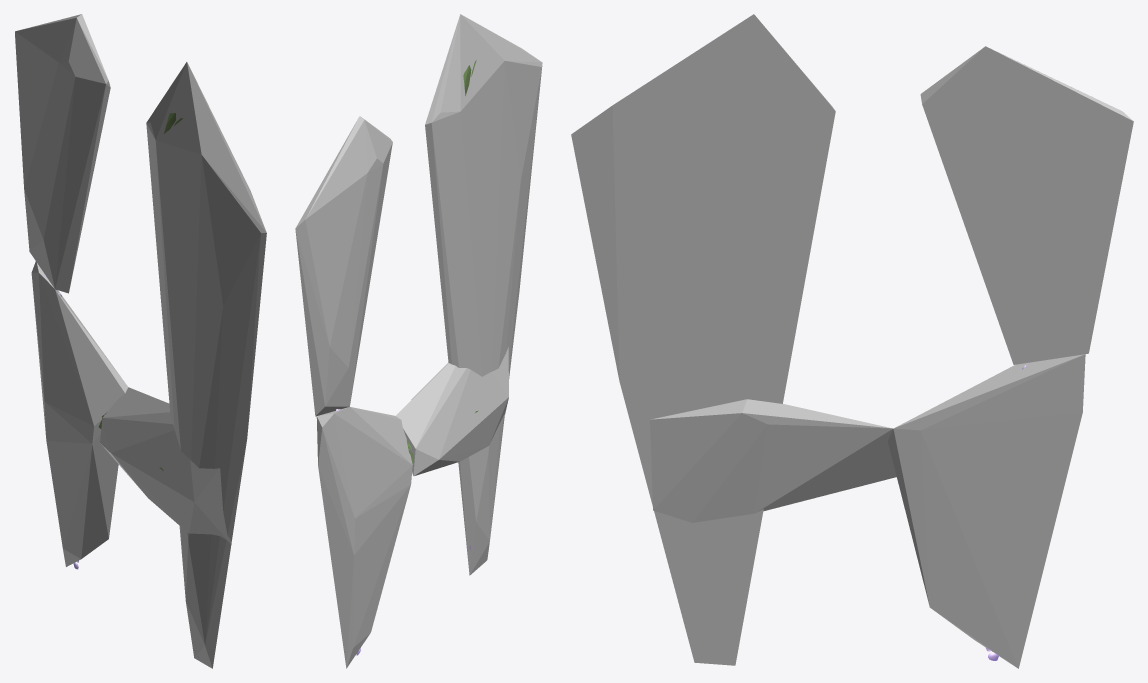
The model's file is SM_Env_Vines_Preset_Window_01.fbx.
3 views of the same model, side by side, from view 1: azimuth 30°, elevation 25°; view 2: azimuth 150°, elevation 25°; view 3: azimuth 270°, elevation 25° (orthographic). The views are drawn at different scales.
Visible parts, largest first — view 1: SM_Env_Vines_Preset_Window_01_ConvexHulls; view 2: SM_Env_Vines_Preset_Window_01_ConvexHulls; view 3: SM_Env_Vines_Preset_Window_01_ConvexHulls.
Boxes of the visible parts, x1,y1,x2,y2 form: SM_Env_Vines_Preset_Window_01_ConvexHulls: (15,14,266,668); SM_Env_Vines_Preset_Window_01_ConvexHulls: (295,14,542,668); SM_Env_Vines_Preset_Window_01_ConvexHulls: (571,14,1133,668).
Size of the model in its own units: 22.32 by 290 by 372.
3 materials, 2 textured.
